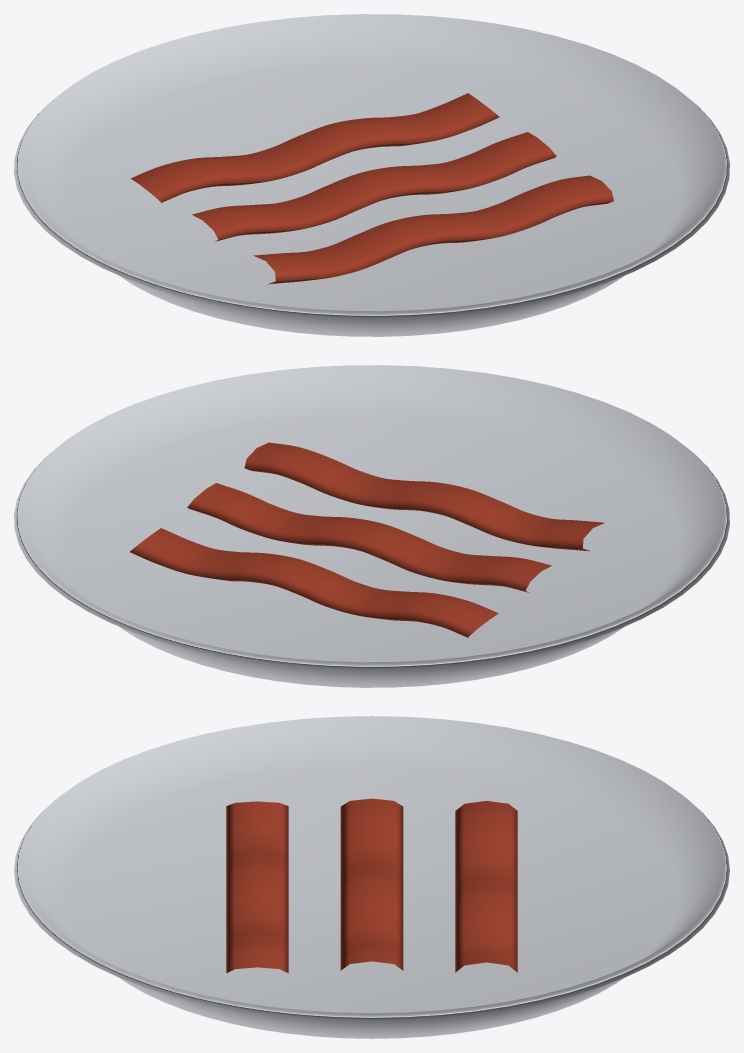
Rendered from mezzogiorno-bacon.glb.
3 views of the same model, one above another, from view 1: azimuth 30°, elevation 25°; view 2: azimuth 150°, elevation 25°; view 3: azimuth 270°, elevation 25° (orthographic).
Bounding box in the file's own units: 0.22 × 0.017 × 0.22.
